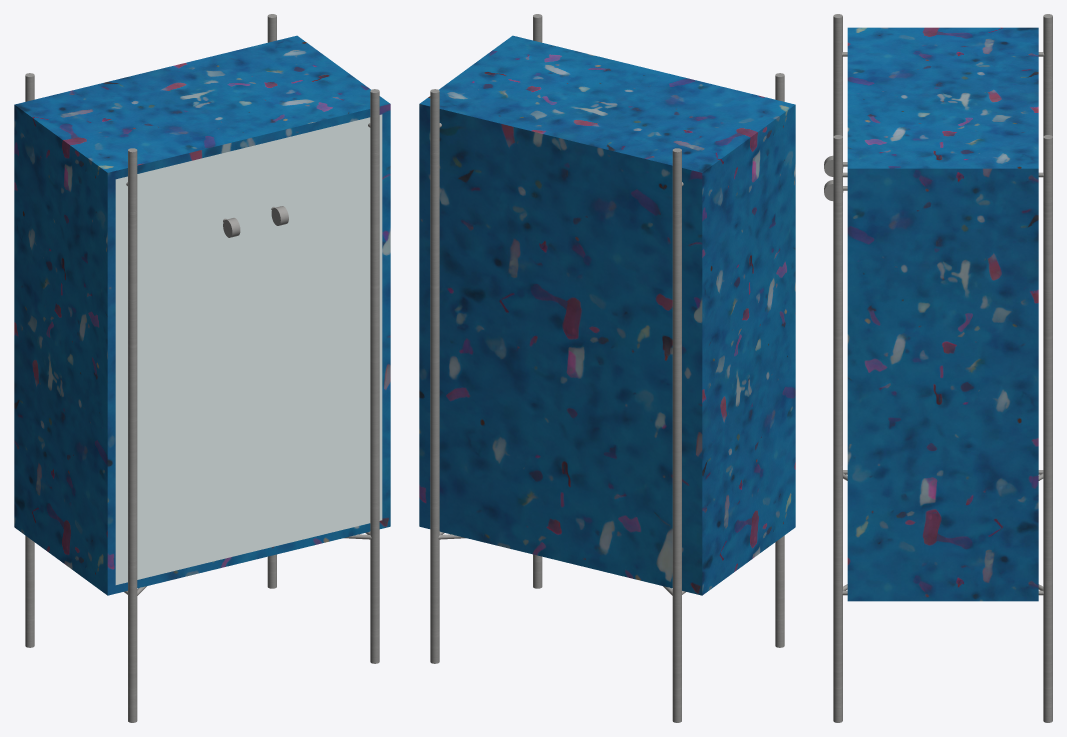
File: nelson_3.glb
The picture shows the model from 3 angles, left to right: view 1: azimuth 30°, elevation 25°; view 2: azimuth 150°, elevation 25°; view 3: azimuth 270°, elevation 25°; orthographic projection. The views are drawn at different scales.
Parts seen in each view (by area): view 1: struttura.001, struttura.003, struttura.002, pali.003; view 2: struttura.001, pali.003; view 3: struttura.001, pali.003.
Part boxes in pixels (x1,y1,x2,y2): struttura.001: (14, 35, 390, 595); struttura.003: (249, 114, 382, 552); struttura.002: (115, 147, 248, 584); pali.003: (25, 14, 379, 722); struttura.001: (419, 35, 795, 595); pali.003: (430, 14, 784, 722); struttura.001: (847, 27, 1038, 601); pali.003: (833, 14, 1052, 722).
Bounding box in the file's own units: 0.7 × 1.35 × 0.4794.
3 materials, 2 textured.
